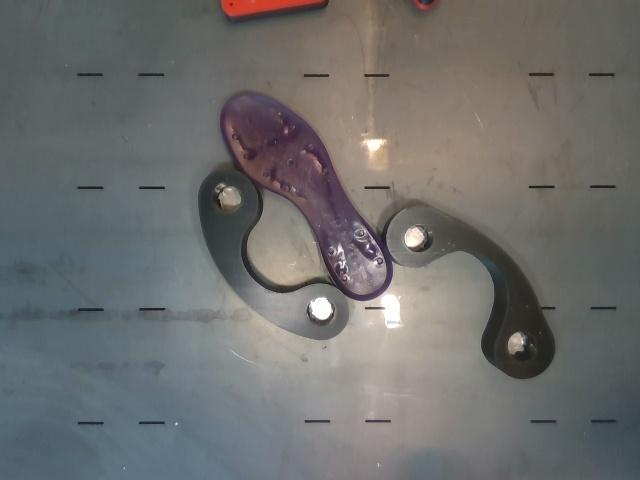shoes: (221, 92, 392, 300)
